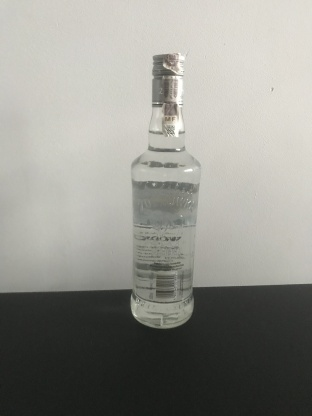nakretka: (149, 50, 187, 108)
